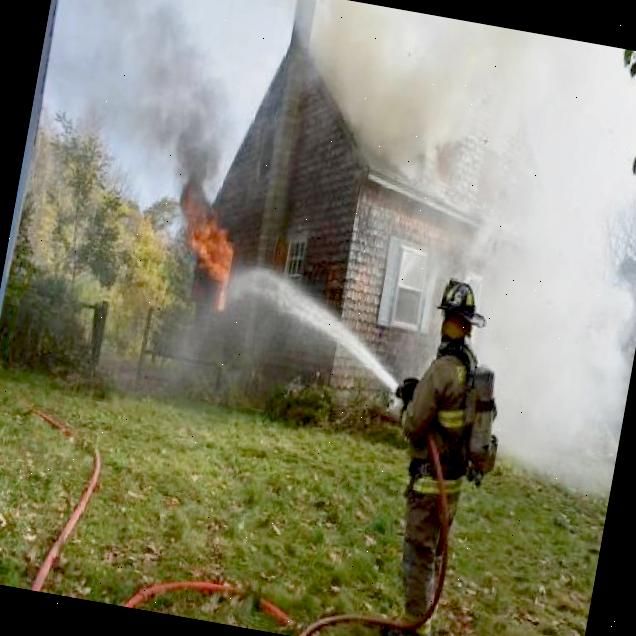fire: (182, 202, 251, 307)
smoke: (47, 0, 258, 216), (294, 0, 508, 211)
